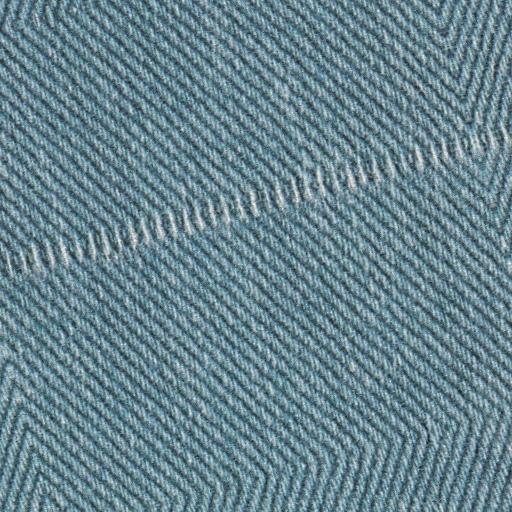slub: (1, 121, 512, 290)
